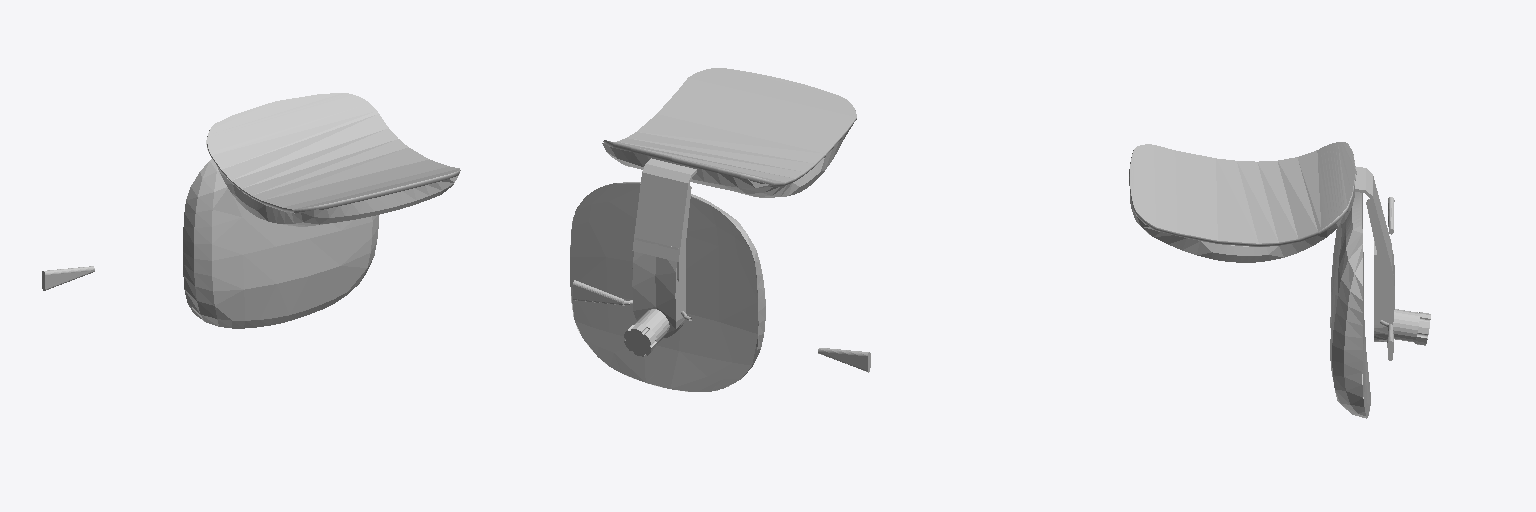
Rendered from chair 2.obj.
The picture shows the model from 3 angles: view 1: azimuth 30°, elevation 25°; view 2: azimuth 150°, elevation 25°; view 3: azimuth 270°, elevation 25°; orthographic projection.
Visible parts, largest first — view 1: obj2367, obj2335, obj2361, obj2330, obj2325, obj2356, obj2364, obj2343, obj2340, obj2355, obj2342, obj2977 (+11 smaller); view 2: obj613, obj2364, obj2356, obj2367, obj2371, obj2334, obj2342, obj2355, obj2340, obj2808, obj2835, obj2343 (+15 smaller); view 3: obj2367, obj2364, obj2356, obj604, obj2371, obj2334, obj2335, obj2343, obj2325, obj2355, obj2342, obj2361 (+2 smaller).
Part boxes in pixels (left/top/right/bottom): obj2367: left=266, top=147, right=428, bottom=199; obj2335: left=231, top=114, right=388, bottom=180; obj2361: left=211, top=112, right=372, bottom=169; obj2330: left=222, top=115, right=374, bottom=179; obj2325: left=245, top=128, right=397, bottom=187; obj2356: left=286, top=159, right=448, bottom=206; obj2364: left=263, top=160, right=425, bottom=207; obj2343: left=255, top=139, right=407, bottom=194; obj2340: left=232, top=130, right=382, bottom=188; obj2355: left=242, top=141, right=391, bottom=195; obj2342: left=252, top=148, right=405, bottom=200; obj2977: left=242, top=218, right=275, bottom=254; obj613: left=634, top=173, right=686, bottom=261; obj2364: left=659, top=114, right=845, bottom=153; obj2356: left=657, top=91, right=843, bottom=130; obj2367: left=637, top=114, right=823, bottom=153; obj2371: left=682, top=92, right=856, bottom=130; obj2334: left=678, top=78, right=852, bottom=116; obj2342: left=640, top=132, right=825, bottom=163; obj2355: left=629, top=138, right=814, bottom=171; obj2340: left=621, top=142, right=804, bottom=178; obj2808: left=719, top=284, right=756, bottom=321; obj2835: left=719, top=322, right=757, bottom=362; obj2343: left=627, top=132, right=813, bottom=163; obj2367: left=1216, top=159, right=1258, bottom=243; obj2364: left=1175, top=150, right=1217, bottom=239; obj2356: left=1175, top=151, right=1217, bottom=240; obj604: left=1355, top=189, right=1391, bottom=289; obj2371: left=1154, top=145, right=1177, bottom=232; obj2334: left=1154, top=147, right=1176, bottom=232; obj2335: left=1278, top=162, right=1317, bottom=238; obj2343: left=1237, top=163, right=1278, bottom=243; obj2325: left=1257, top=162, right=1297, bottom=241; obj2355: left=1237, top=161, right=1278, bottom=241; obj2342: left=1216, top=158, right=1258, bottom=242; obj2361: left=1297, top=150, right=1320, bottom=226.
Size of the model in its own units: 30.96 by 21.32 by 25.81.